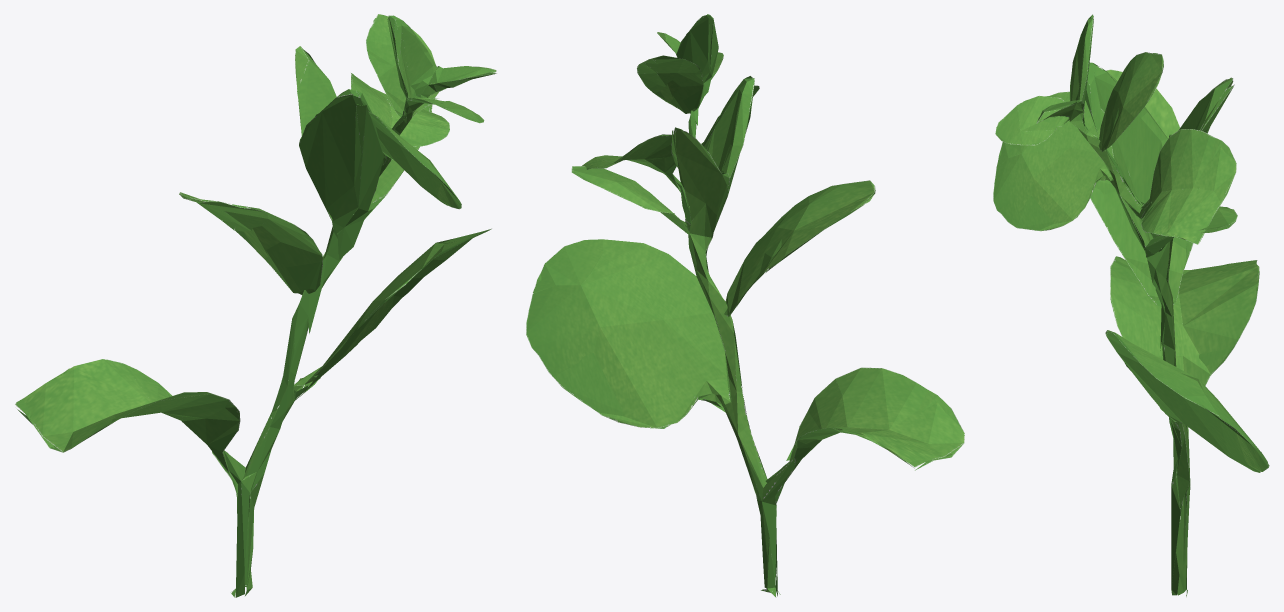
The model's file is Plant_4.glb.
3 renders of one model, left to right at view 1: azimuth 30°, elevation 25°; view 2: azimuth 150°, elevation 25°; view 3: azimuth 270°, elevation 25°, orthographic. The views are drawn at different scales.
Visible parts, largest first — view 1: plantphase3; view 2: plantphase3; view 3: plantphase3.
Boxes of the visible parts, x1,y1,x2,y2 form: plantphase3: (15,14,496,597); plantphase3: (526,14,964,597); plantphase3: (993,14,1269,596).
Size of the model in its own units: 0.0635 by 0.0797 by 0.0311.
Materials: 2 (2 with a texture image).
